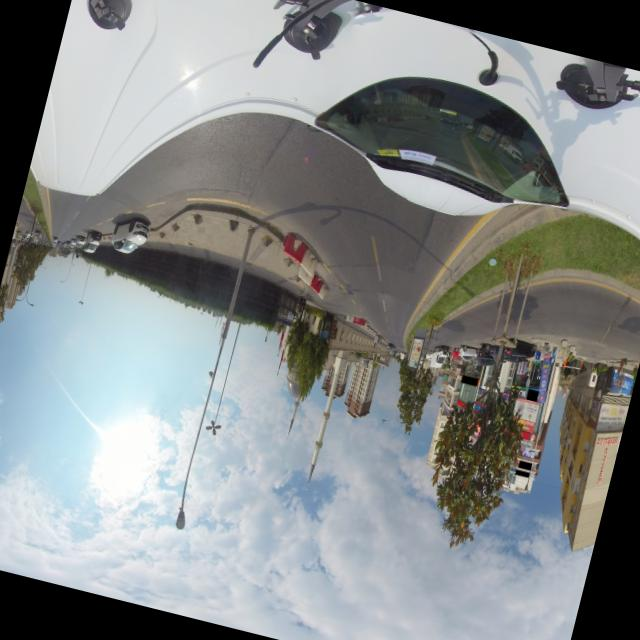SignStore: (460, 373, 477, 385), (525, 387, 537, 400), (517, 459, 531, 469), (514, 468, 528, 476)
